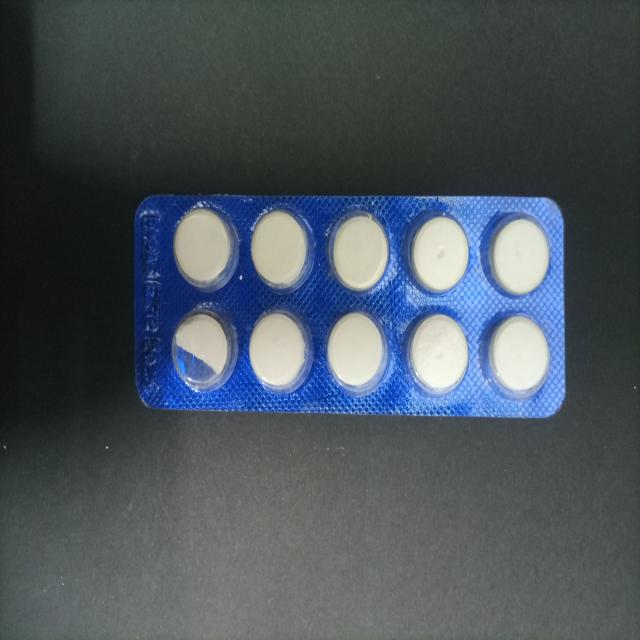defect: (166, 302, 242, 396)
